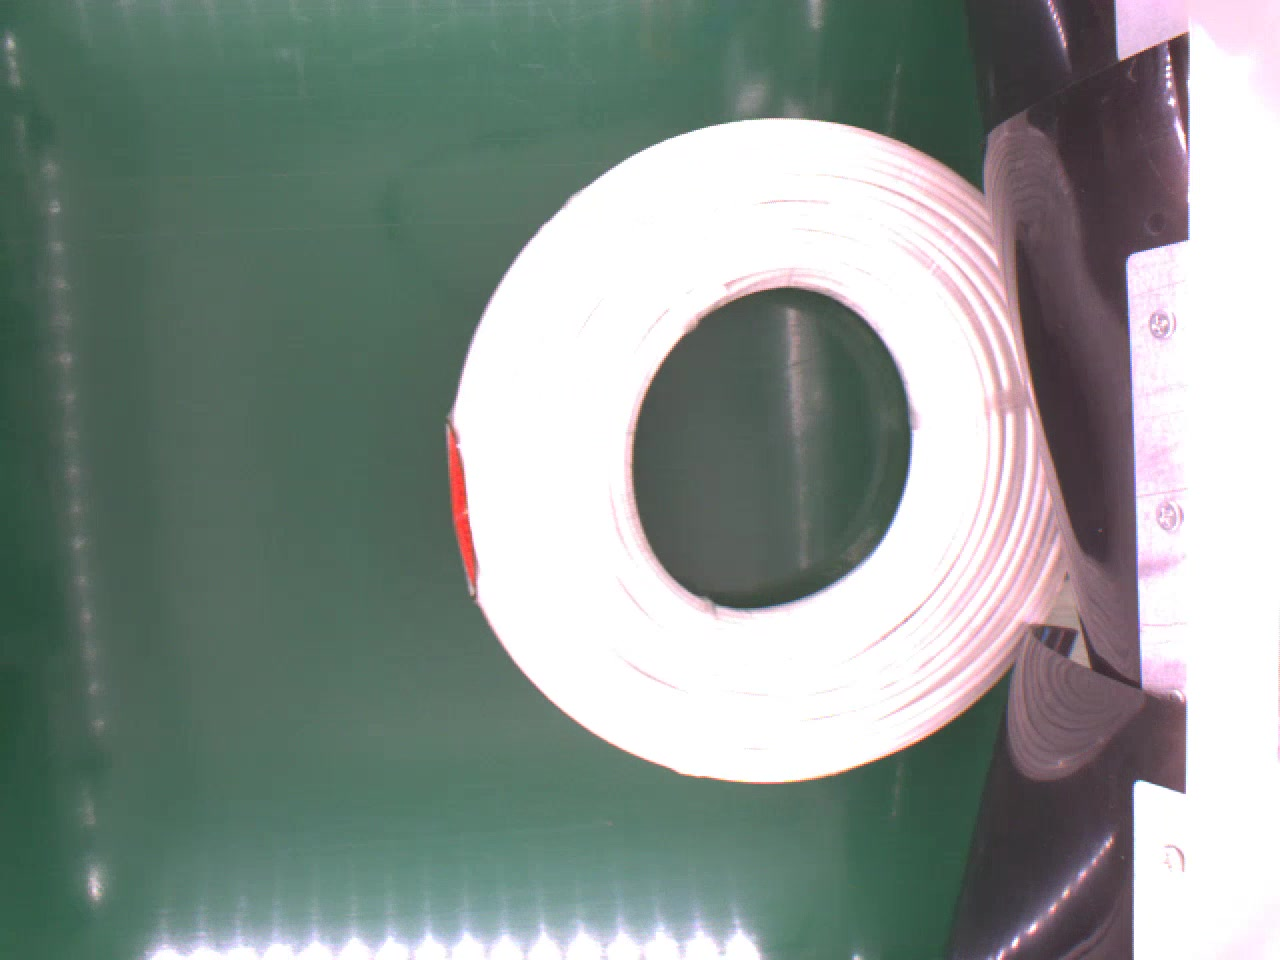white: (445, 113, 1085, 789)
